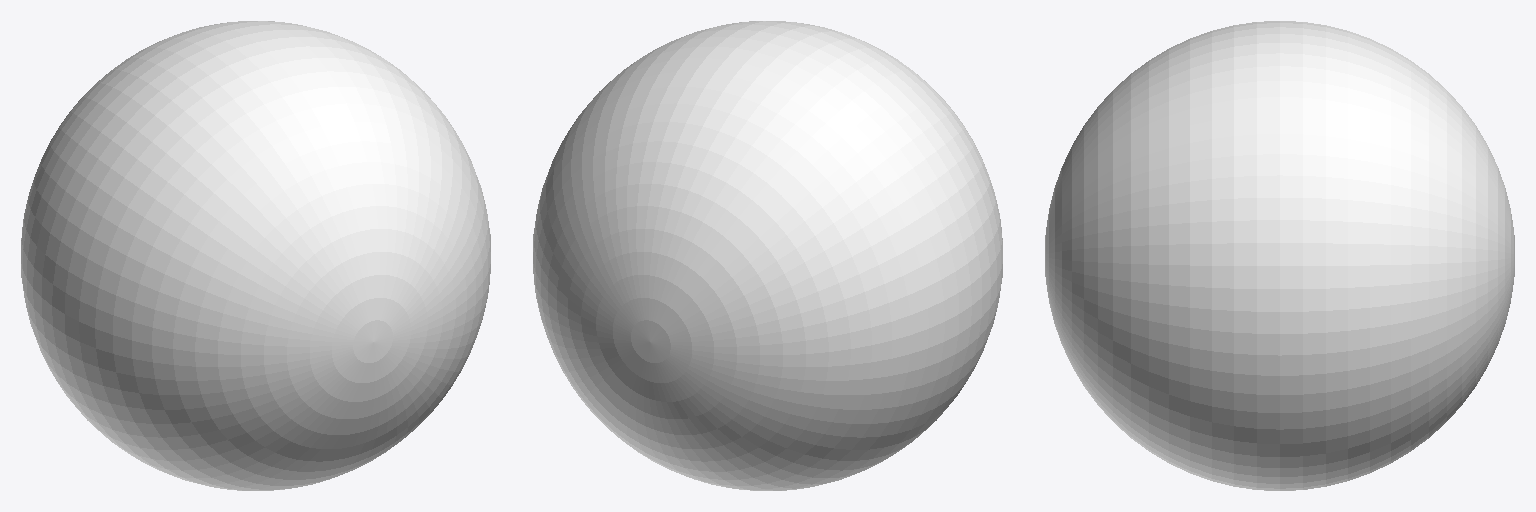
File: Rubik.obj
3 views of the same model, side by side, from view 1: azimuth 30°, elevation 25°; view 2: azimuth 150°, elevation 25°; view 3: azimuth 270°, elevation 25° (orthographic).
Visible parts, largest first — view 1: object_124; view 2: object_124; view 3: object_124.
Part boxes in pixels (bbox=[...]): object_124: bbox=[21, 21, 490, 490]; object_124: bbox=[533, 21, 1002, 490]; object_124: bbox=[1045, 21, 1514, 490].
Size of the model in its own units: 31.22 by 31.22 by 31.22.